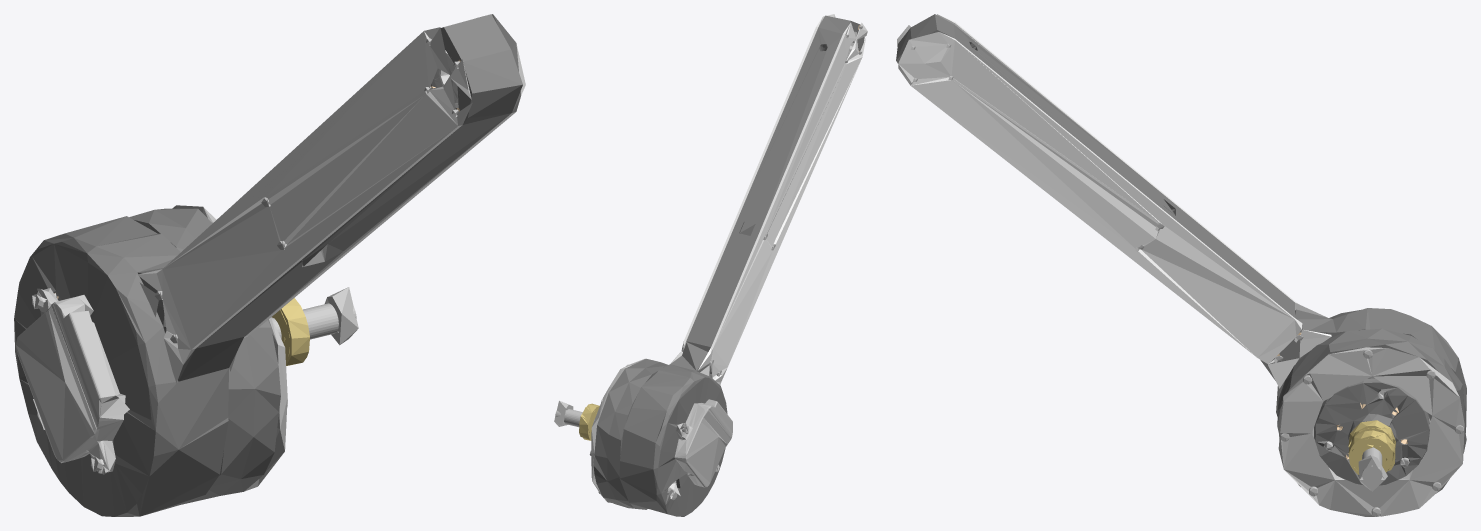
File: shin_xp.glb
The picture shows the model from 3 angles, left to right: view 1: azimuth 30°, elevation 25°; view 2: azimuth 150°, elevation 25°; view 3: azimuth 270°, elevation 25°; orthographic projection. The views are drawn at different scales.
Visible parts, largest first — view 1: shin_xp_54, shin_xp_59, shin_xp_55, shin_xp_56; view 2: shin_xp_54, shin_xp_59, shin_xp_55, shin_xp_56; view 3: shin_xp_59, shin_xp_54, shin_xp_55, shin_xp_56.
Boxes of the visible parts, x1=… form: shin_xp_54: x1=14, y1=14, x2=522, y2=516; shin_xp_59: x1=33, y1=14, x2=525, y2=429; shin_xp_55: x1=15, y1=38, x2=459, y2=491; shin_xp_56: x1=271, y1=298, x2=309, y2=365; shin_xp_54: x1=593, y1=15, x2=864, y2=516; shin_xp_59: x1=668, y1=14, x2=867, y2=498; shin_xp_55: x1=554, y1=26, x2=862, y2=502; shin_xp_56: x1=579, y1=403, x2=599, y2=440; shin_xp_59: x1=897, y1=14, x2=1430, y2=422; shin_xp_54: x1=896, y1=14, x2=1466, y2=493; shin_xp_55: x1=910, y1=44, x2=1464, y2=516; shin_xp_56: x1=1348, y1=420, x2=1395, y2=474.
Bounding box in the file's own units: 0.134 × 0.3104 × 0.3401.
